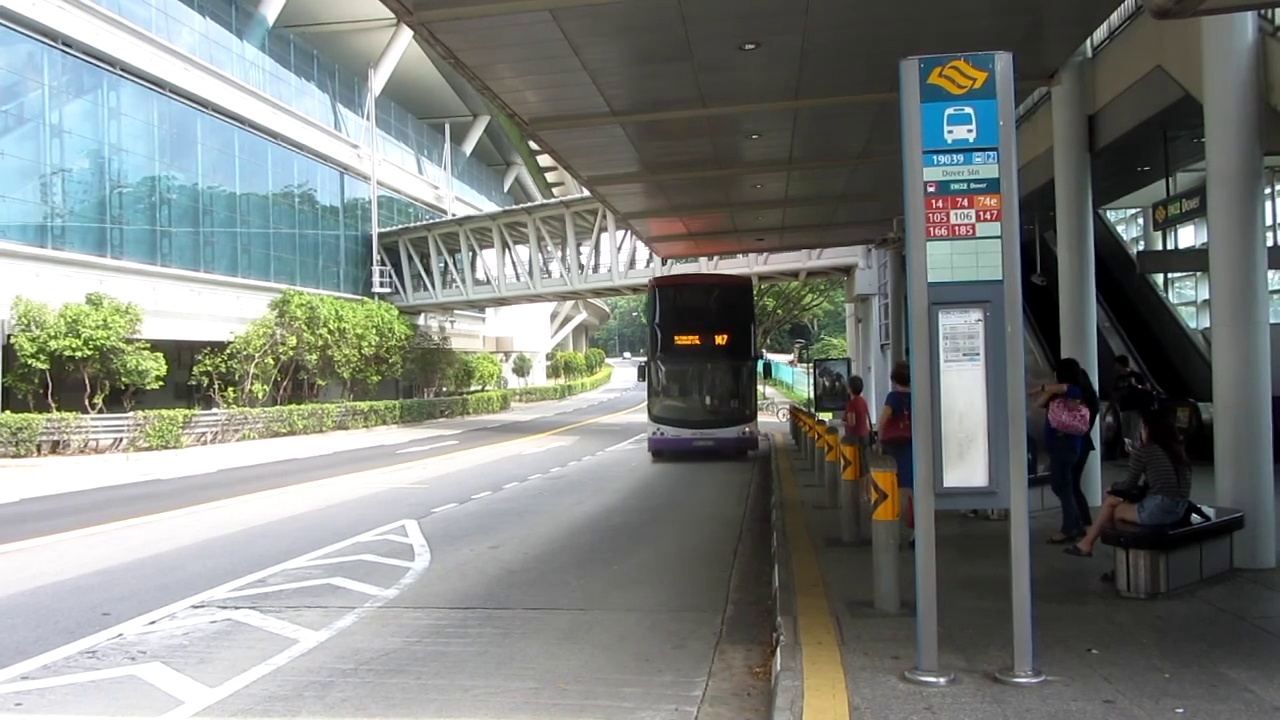bus panel: (672, 334, 730, 346)
